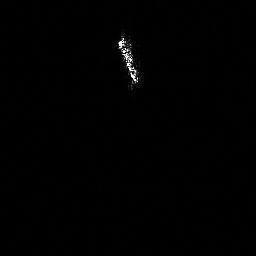ship: (115, 32, 145, 88)
